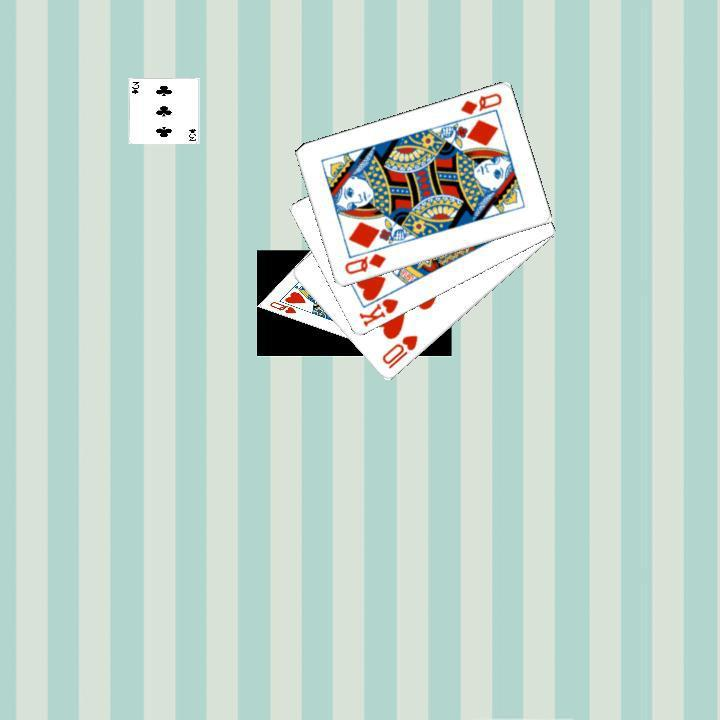10: (377, 331, 420, 371)
K: (354, 294, 400, 329)
Q: (340, 249, 388, 277), (456, 89, 504, 117)
